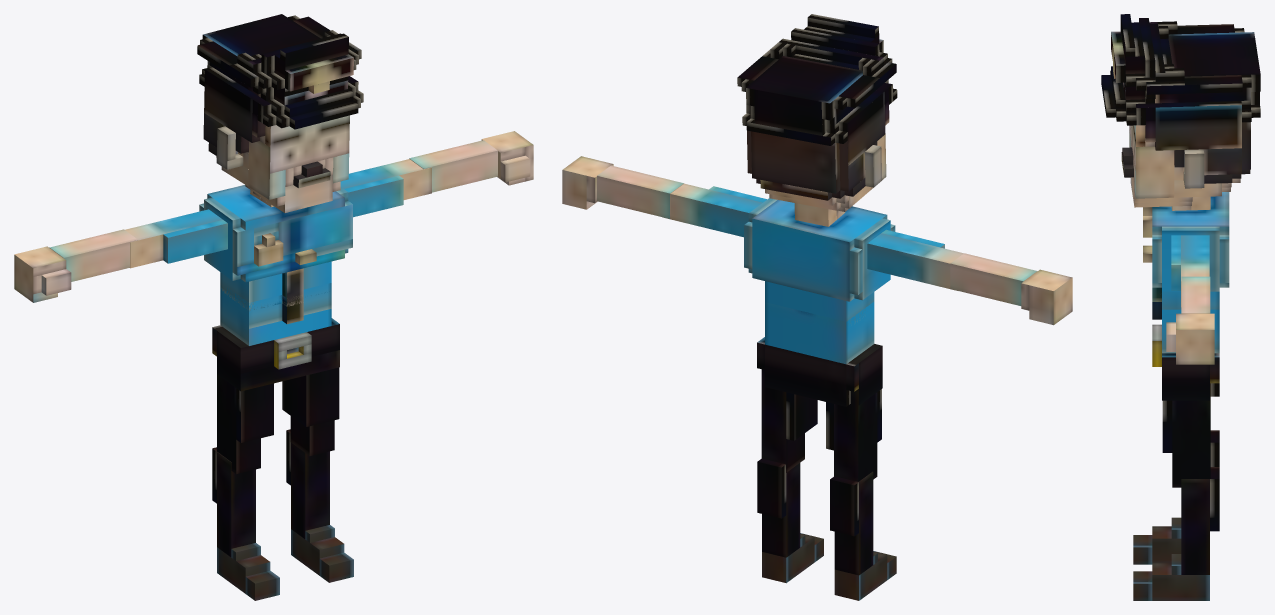
File: policeman.glb
3 views of the same model, side by side, from view 1: azimuth 30°, elevation 25°; view 2: azimuth 150°, elevation 25°; view 3: azimuth 270°, elevation 25° (orthographic). The views are drawn at different scales.
Parts seen in each view (by area): view 1: Policeman_Tpose; view 2: Policeman_Tpose; view 3: Policeman_Tpose.
Boxes of the visible parts, x1=… form: Policeman_Tpose: x1=14, y1=14, x2=533, y2=600; Policeman_Tpose: x1=562, y1=14, x2=1072, y2=600; Policeman_Tpose: x1=1101, y1=14, x2=1260, y2=600.
Bounding box in the file's own units: 6.57 × 6.86 × 1.8.
Materials: 1 (1 with a texture image).
